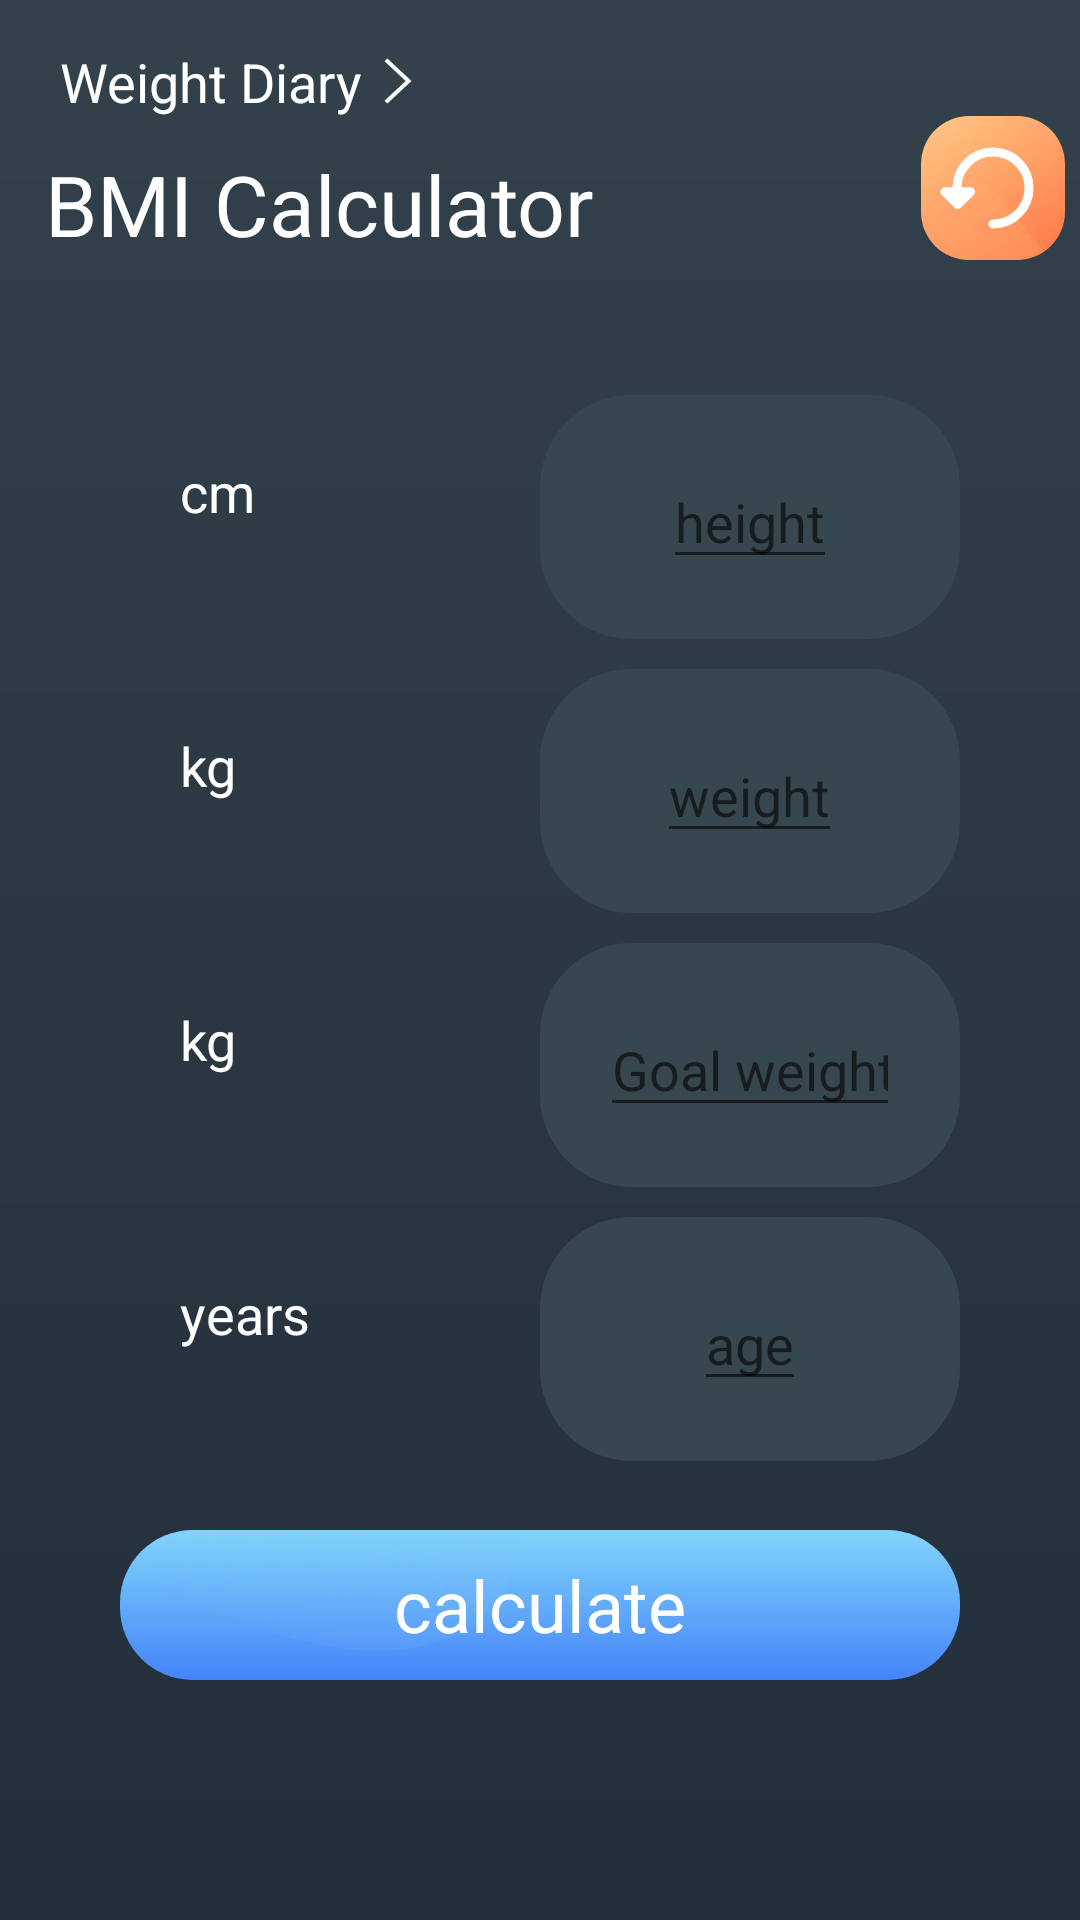

Icons on this 1080*1920 Android screen, each with its box as Rect(x1, y1, x2, y2):
forward: Rect(384, 58, 411, 104)
refresh: Rect(921, 116, 1065, 260)
